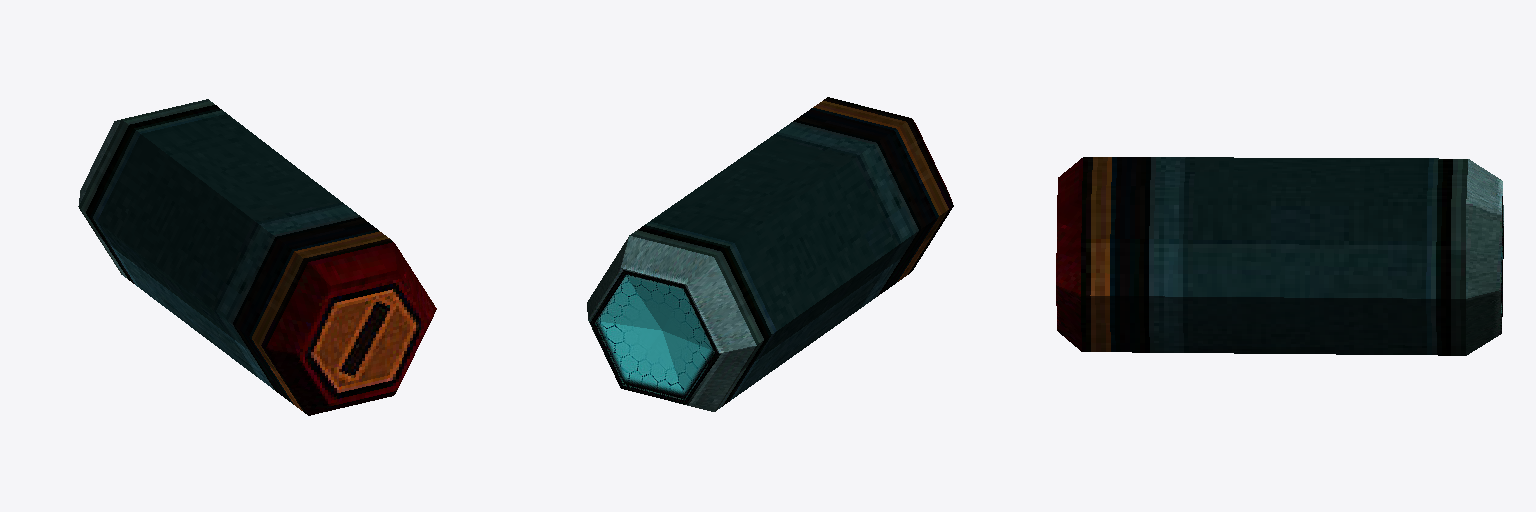
3 views of the same model, side by side, from view 1: azimuth 30°, elevation 25°; view 2: azimuth 150°, elevation 25°; view 3: azimuth 270°, elevation 25° (orthographic).
Visible parts, largest first — view 1: Missile_Mesh.033; view 2: Missile_Mesh.033; view 3: Missile_Mesh.033.
Boxes of the visible parts, x1,y1,x2,y2 form: Missile_Mesh.033: [78, 99, 436, 415]; Missile_Mesh.033: [587, 97, 953, 411]; Missile_Mesh.033: [1056, 157, 1503, 355].
Bounding box in the file's own units: 0.1219 × 0.1026 × 0.2679.
1 materials, 1 textured.